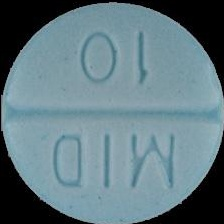60505-1325: (0, 0, 224, 224)
